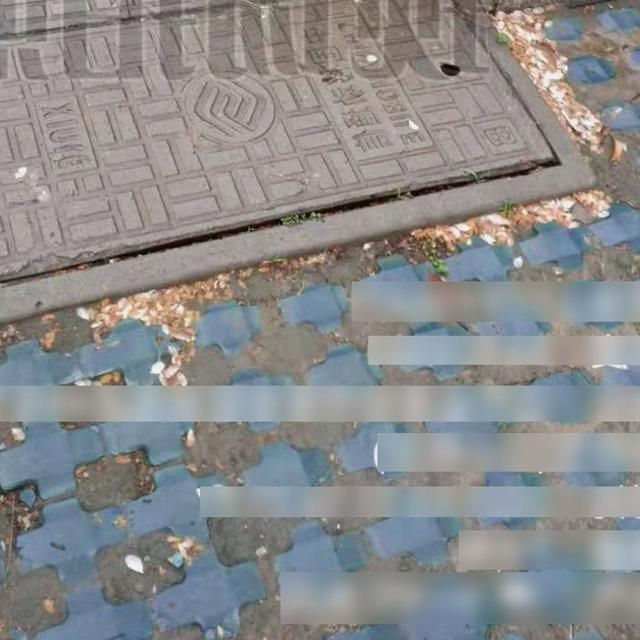good: (0, 0, 598, 338)
